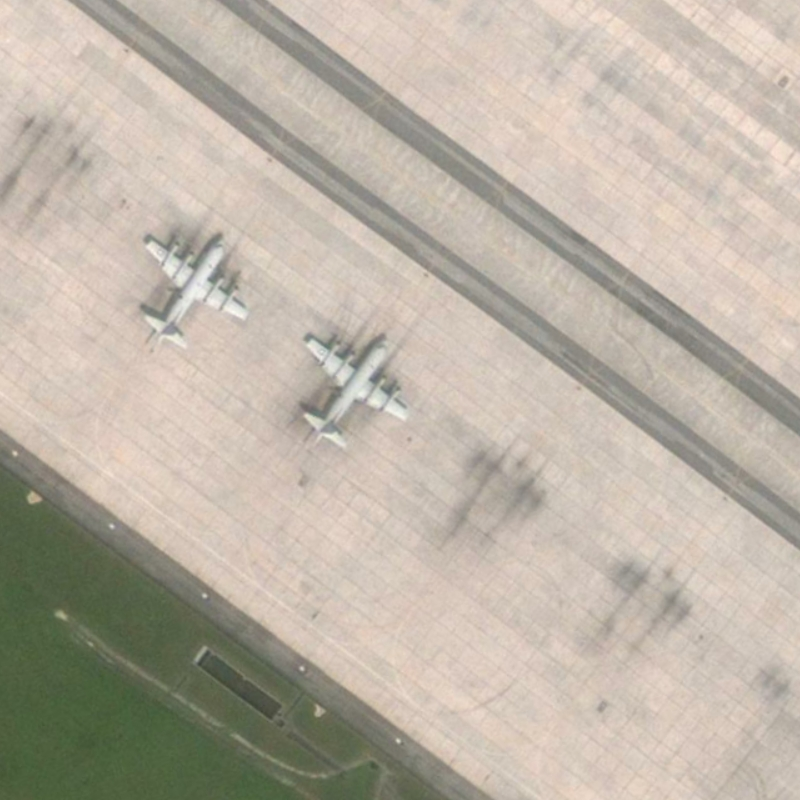A9: (293, 331, 412, 451), (136, 230, 254, 351)
